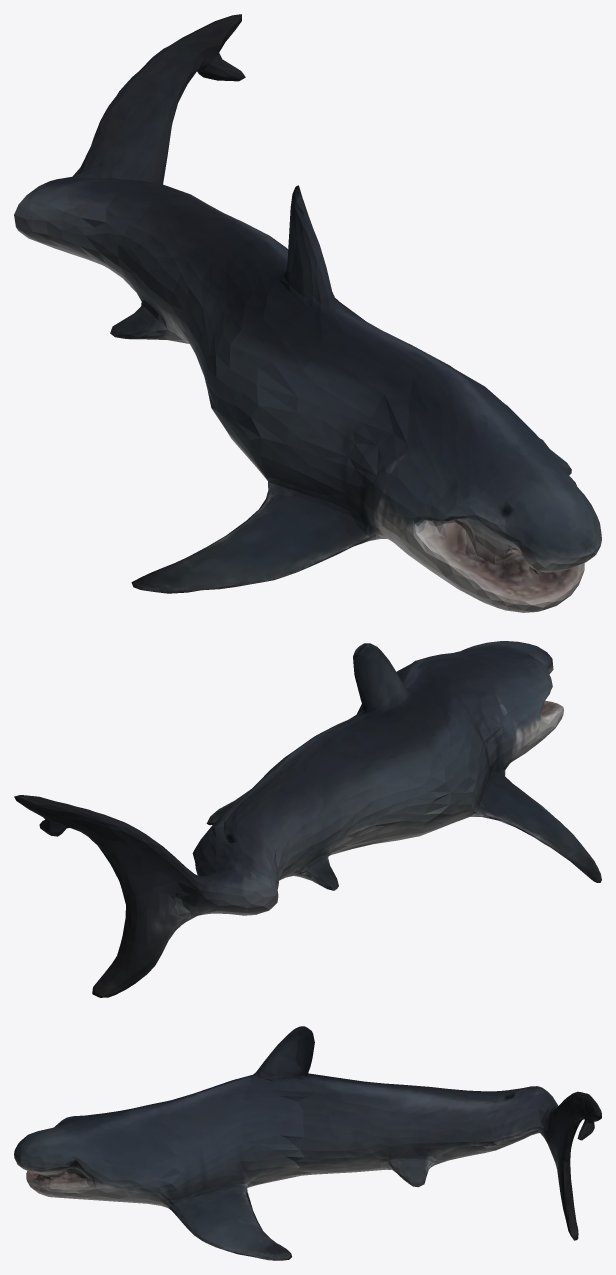
Rendered from shark.glb.
3 renders of one model, top to bottom at view 1: azimuth 30°, elevation 25°; view 2: azimuth 150°, elevation 25°; view 3: azimuth 270°, elevation 25°, orthographic. The views are drawn at different scales.
Parts seen in each view (by area): view 1: geometry_0; view 2: geometry_0; view 3: geometry_0.
Boxes of the visible parts, x1,y1,x2,y2 form: geometry_0: (14,14,601,612); geometry_0: (14,641,601,997); geometry_0: (14,1026,601,1260).
Size of the model in its own units: 0.5217 by 0.3401 by 0.9969.
1 material, 1 textured.
